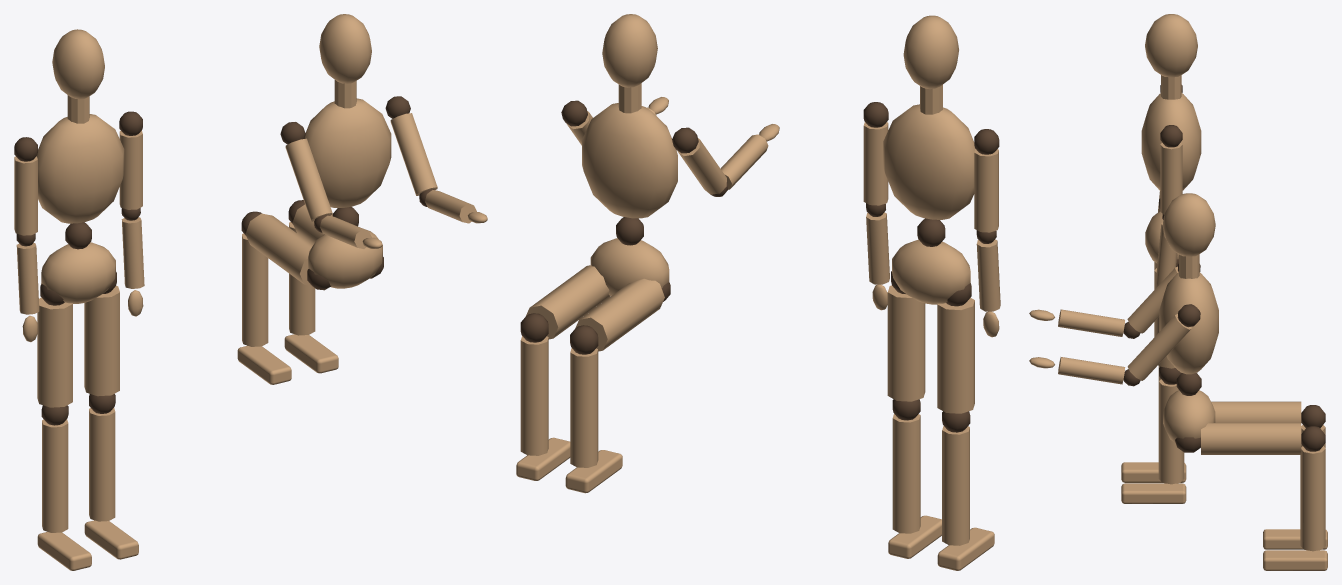
File: mannequin.glb
3 views of the same model, side by side, from view 1: azimuth 30°, elevation 25°; view 2: azimuth 150°, elevation 25°; view 3: azimuth 270°, elevation 25° (orthographic). The views are drawn at different scales.
Parts seen in each view (by area): view 1: Mannequin_Standing_Chest, Mannequin_Seated_Chest, Mannequin_Standing_Thigh_-1, Mannequin_Standing_Thigh_1, Mannequin_Standing_Hips, Mannequin_Standing_Shin_1, Mannequin_Standing_Shin_-1, Mannequin_Standing_Head, Mannequin_Seated_Head, Mannequin_Seated_Hips, Mannequin_Seated_Shin_-1, Mannequin_Seated_Thigh_-1 (+15 smaller); view 2: Mannequin_Seated_Chest, Mannequin_Standing_Chest, Mannequin_Standing_Thigh_-1, Mannequin_Standing_Thigh_1, Mannequin_Standing_Hips, Mannequin_Seated_Shin_1, Mannequin_Standing_Shin_1, Mannequin_Seated_Shin_-1, Mannequin_Standing_Shin_-1, Mannequin_Standing_Head, Mannequin_Seated_Head, Mannequin_Seated_Thigh_-1 (+18 smaller); view 3: Mannequin_Seated_Chest, Mannequin_Standing_Chest, Mannequin_Seated_Thigh_1, Mannequin_Seated_Head, Mannequin_Standing_Head, Mannequin_Seated_Shin_1, Mannequin_Seated_Hips, Mannequin_Seated_Thigh_-1, Mannequin_Standing_Shin_1, Mannequin_Seated_UpperArm_1, Mannequin_Standing_Foot_1, Mannequin_Standing_UpperArm_1 (+15 smaller).
Part boxes in pixels (x1,y1,x2,y2): Mannequin_Standing_Chest: [37, 114, 124, 223]; Mannequin_Seated_Chest: [304, 98, 391, 207]; Mannequin_Standing_Thigh_-1: [37, 297, 72, 407]; Mannequin_Standing_Thigh_1: [84, 285, 119, 396]; Mannequin_Standing_Hips: [41, 242, 115, 303]; Mannequin_Standing_Shin_1: [89, 408, 115, 521]; Mannequin_Standing_Shin_-1: [42, 419, 68, 532]; Mannequin_Standing_Head: [52, 29, 104, 99]; Mannequin_Seated_Head: [319, 14, 371, 83]; Mannequin_Seated_Hips: [308, 229, 382, 288]; Mannequin_Seated_Shin_-1: [242, 233, 268, 346]; Mannequin_Seated_Thigh_-1: [245, 213, 312, 285]; Mannequin_Seated_Chest: [582, 103, 677, 218]; Mannequin_Standing_Chest: [883, 104, 975, 219]; Mannequin_Standing_Thigh_-1: [937, 297, 974, 413]; Mannequin_Standing_Thigh_1: [887, 285, 925, 401]; Mannequin_Standing_Hips: [892, 239, 970, 304]; Mannequin_Seated_Shin_1: [520, 336, 548, 455]; Mannequin_Standing_Shin_1: [892, 414, 920, 533]; Mannequin_Seated_Shin_-1: [570, 348, 598, 467]; Mannequin_Standing_Shin_-1: [942, 426, 969, 545]; Mannequin_Standing_Head: [903, 15, 958, 89]; Mannequin_Seated_Head: [602, 14, 657, 87]; Mannequin_Seated_Thigh_-1: [575, 278, 664, 351]; Mannequin_Seated_Chest: [1159, 272, 1218, 374]; Mannequin_Standing_Chest: [1141, 93, 1201, 190]; Mannequin_Seated_Thigh_1: [1201, 423, 1301, 454]; Mannequin_Seated_Head: [1162, 193, 1215, 256]; Mannequin_Standing_Head: [1145, 14, 1197, 77]; Mannequin_Seated_Shin_1: [1300, 446, 1325, 551]; Mannequin_Seated_Hips: [1163, 390, 1215, 443]; Mannequin_Seated_Thigh_-1: [1211, 401, 1301, 422]; Mannequin_Standing_Shin_1: [1158, 379, 1184, 484]; Mannequin_Seated_UpperArm_1: [1127, 314, 1191, 380]; Mannequin_Standing_Foot_1: [1121, 483, 1186, 503]; Mannequin_Standing_UpperArm_1: [1160, 142, 1182, 214].
Bounding box in the file's own units: 1.46 × 1.77 × 1.01.
